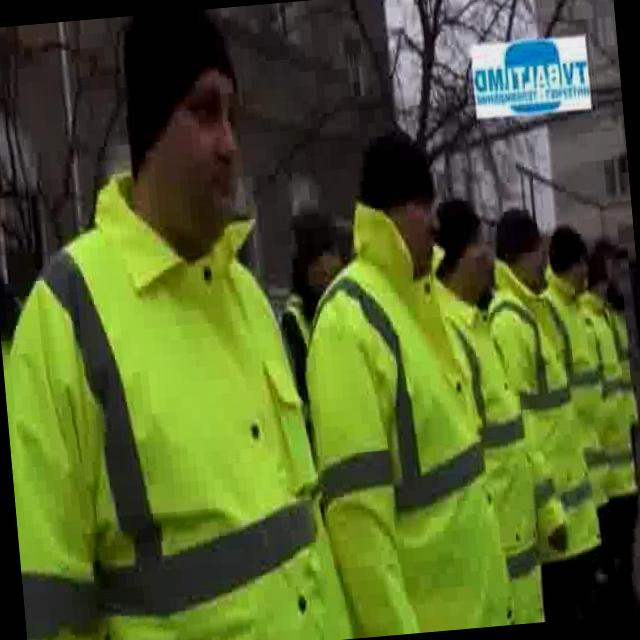no-helmet: (43, 12, 271, 277), (342, 135, 447, 288), (415, 194, 502, 310), (482, 197, 552, 308), (533, 216, 600, 300)
vest: (0, 151, 352, 640), (288, 186, 519, 640), (428, 252, 577, 629), (479, 246, 606, 569), (546, 258, 620, 504), (573, 285, 640, 503)
